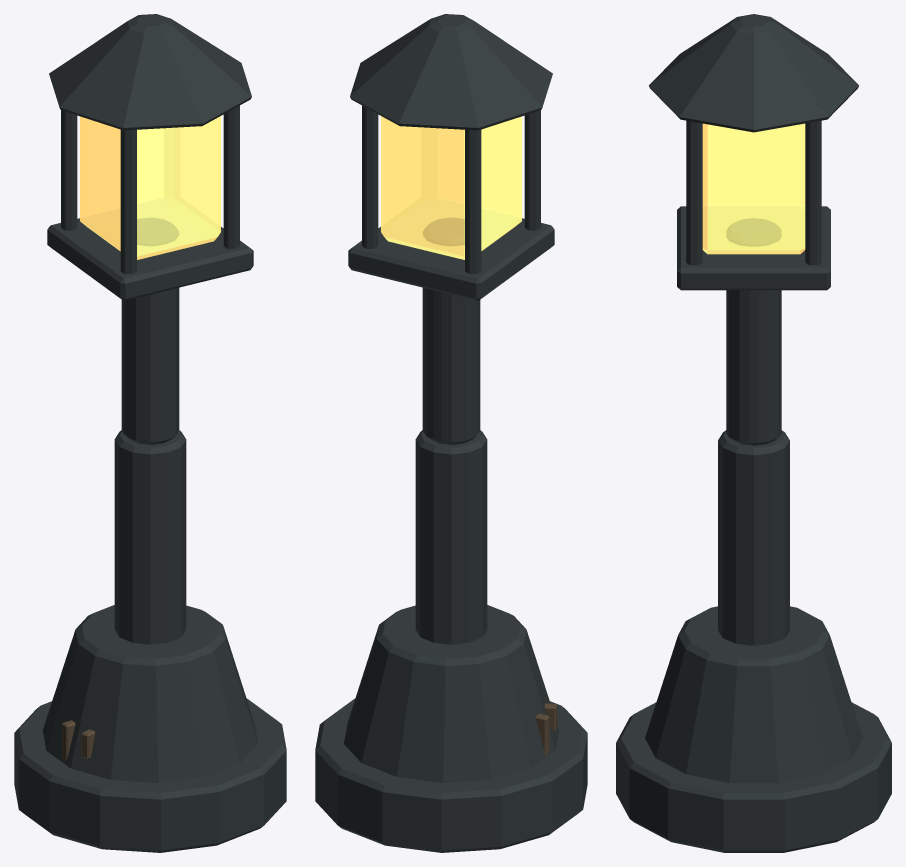
File: runtime.glb
3 renders of one model, left to right at view 1: azimuth 30°, elevation 25°; view 2: azimuth 150°, elevation 25°; view 3: azimuth 270°, elevation 25°, orthographic.
Visible parts, largest first — view 1: eiffel-historic-lamp-v08_nocol; view 2: eiffel-historic-lamp-v08_nocol; view 3: eiffel-historic-lamp-v08_nocol.
Part boxes in pixels (x1,y1,x2,y2): eiffel-historic-lamp-v08_nocol: (14, 14, 286, 852); eiffel-historic-lamp-v08_nocol: (315, 14, 587, 852); eiffel-historic-lamp-v08_nocol: (616, 14, 891, 852).
Bounding box in the file's own units: 0.9749 × 3.11 × 1.
